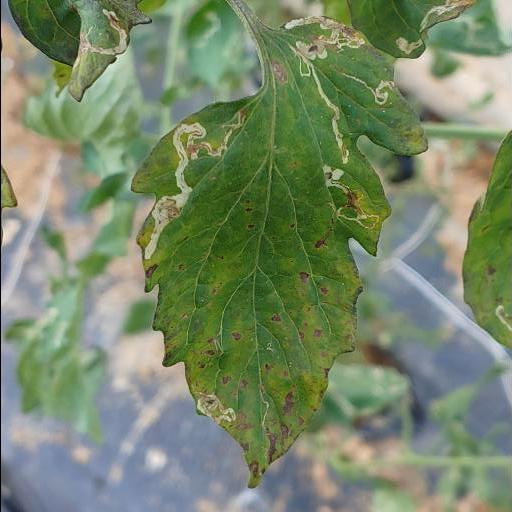disease_tomato: (129, 13, 429, 491)
